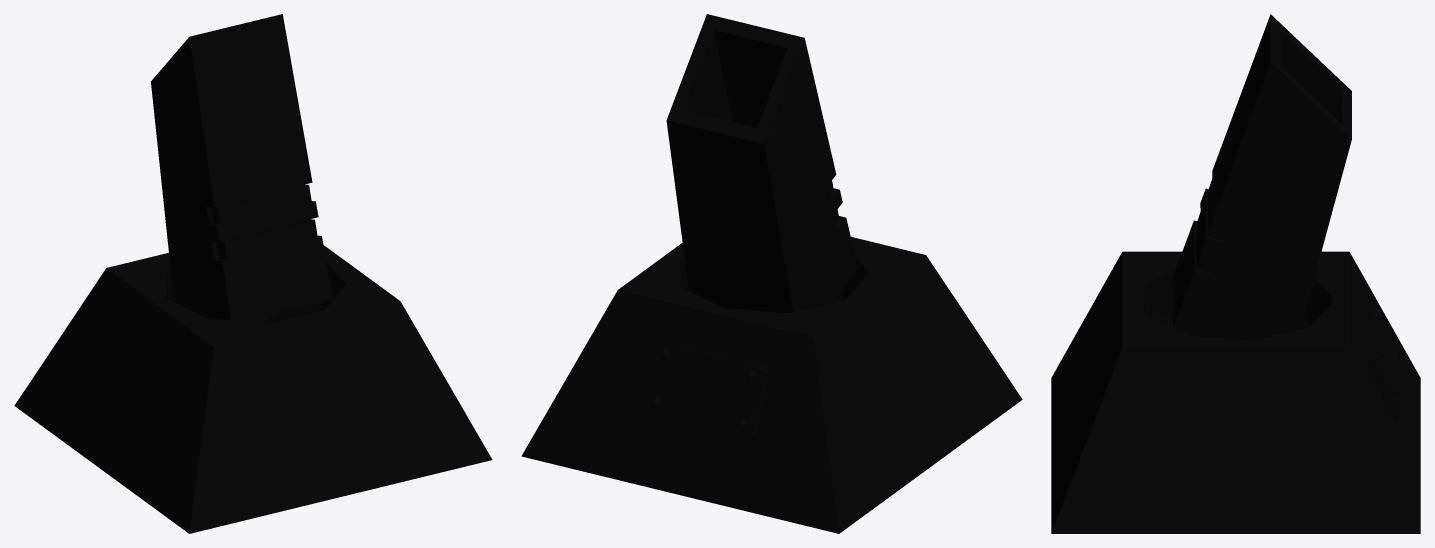
The model's file is Canon turret.fbx.
The picture shows the model from 3 angles, left to right: view 1: azimuth 30°, elevation 25°; view 2: azimuth 150°, elevation 25°; view 3: azimuth 270°, elevation 25°; orthographic projection. The views are drawn at different scales.
Visible parts, largest first — view 1: Cube, Cube.003; view 2: Cube, Cube.003; view 3: Cube, Cube.003.
Part boxes in pixels (left/top/right/bottom): Cube: left=14, top=245, right=492, bottom=533; Cube.003: left=151, top=14, right=332, bottom=321; Cube: left=521, top=237, right=1022, bottom=533; Cube.003: left=666, top=14, right=857, bottom=312; Cube: left=1051, top=251, right=1420, bottom=533; Cube.003: left=1172, top=14, right=1351, bottom=340.
Size of the model in its own units: 296 by 369 by 296.
